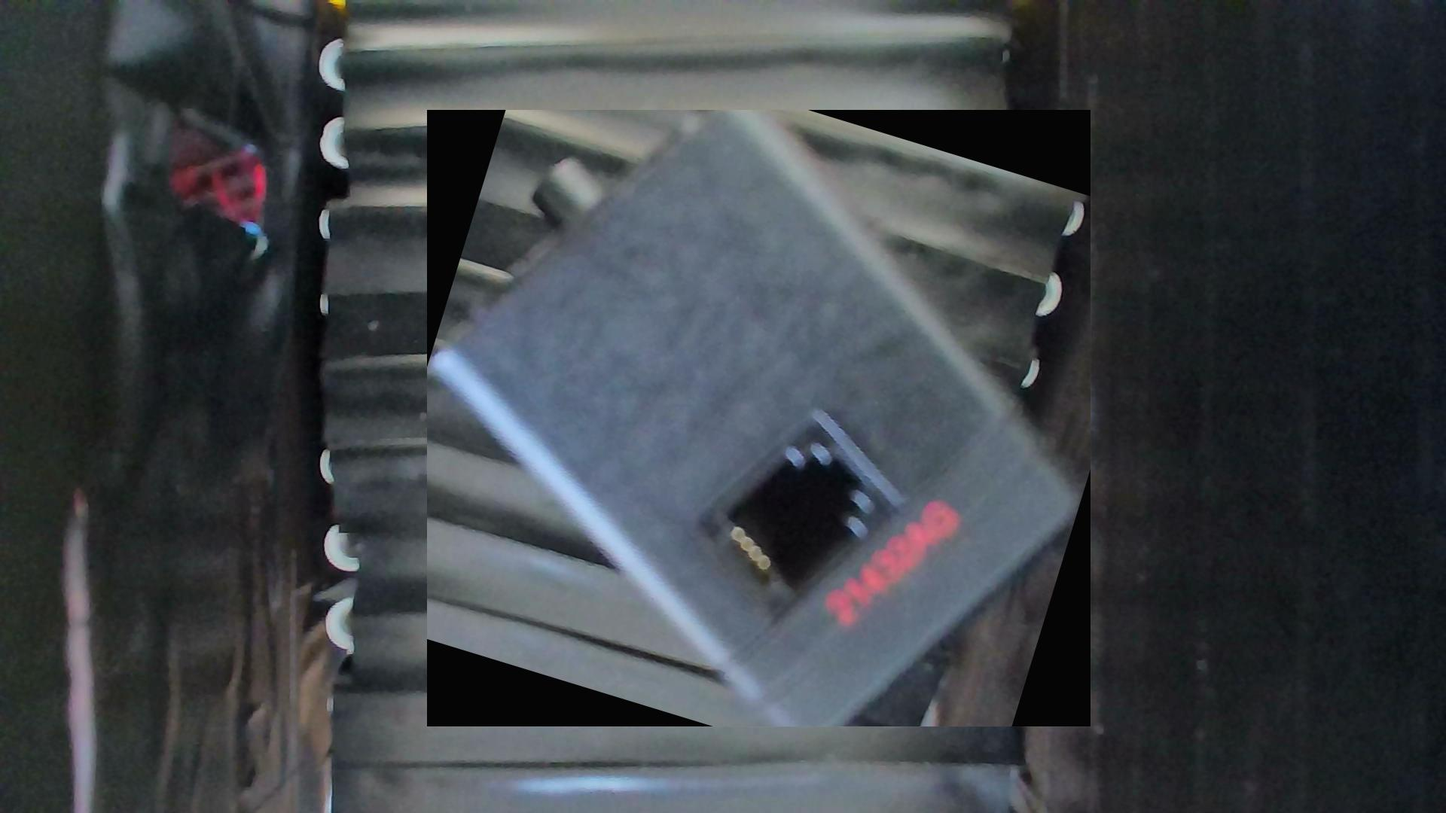motor: (428, 111, 1092, 728)
